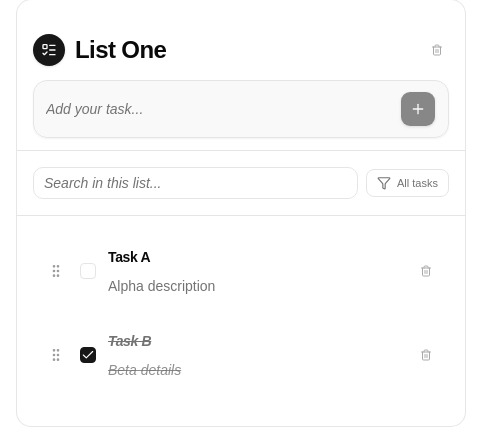
TodoList › filters by Done / Not done
The image size is (483, 444).
expect the field with placeholder "Search in this list..." is shown: met, box [33,167,358,199]
Click the button "All tasks". click: (408, 183)
box: [366,169,449,197]
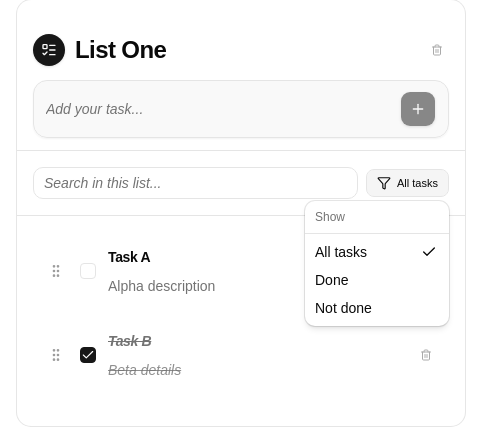
Click the menu item "Done". click: (332, 280)
box: [315,272,348,288]
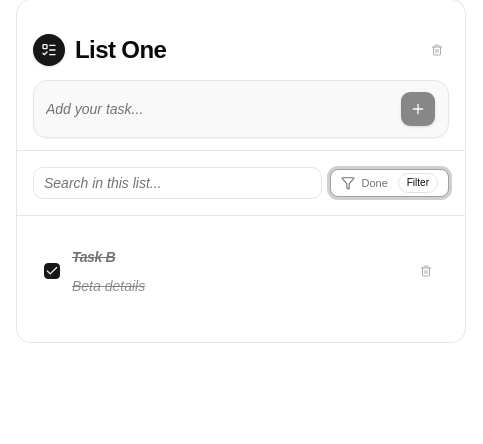
expect the field showing "Task A" is not shown: met
expect the field showing "Task B" is shown: met, box [72,243,402,271]
expect the icon "Filter" is shown: met, box [398,173,438,193]
Click the button "Done Filter". click: (390, 183)
box: [330,169,449,197]
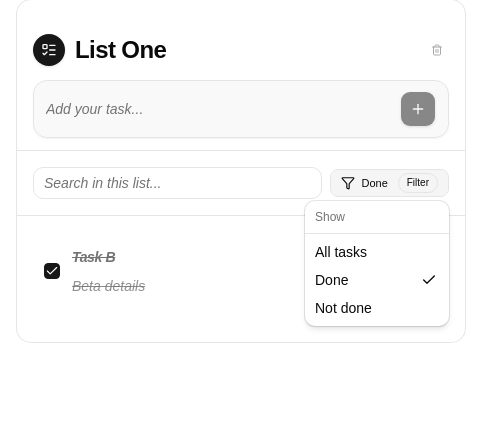
Click the menu item "Not done". click: (343, 308)
box: [315,300,372,316]
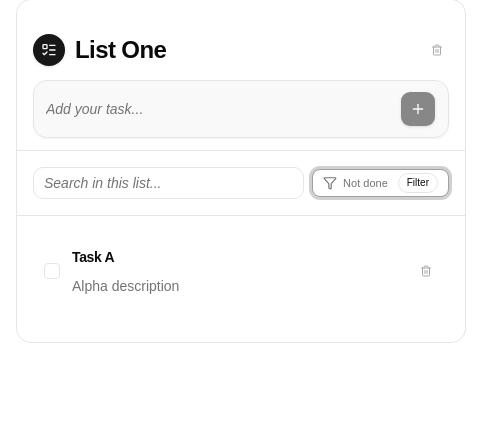
expect the field showing "Task B" is not shown: met
expect the field showing "Task A" is shown: met, box [72,243,402,271]
